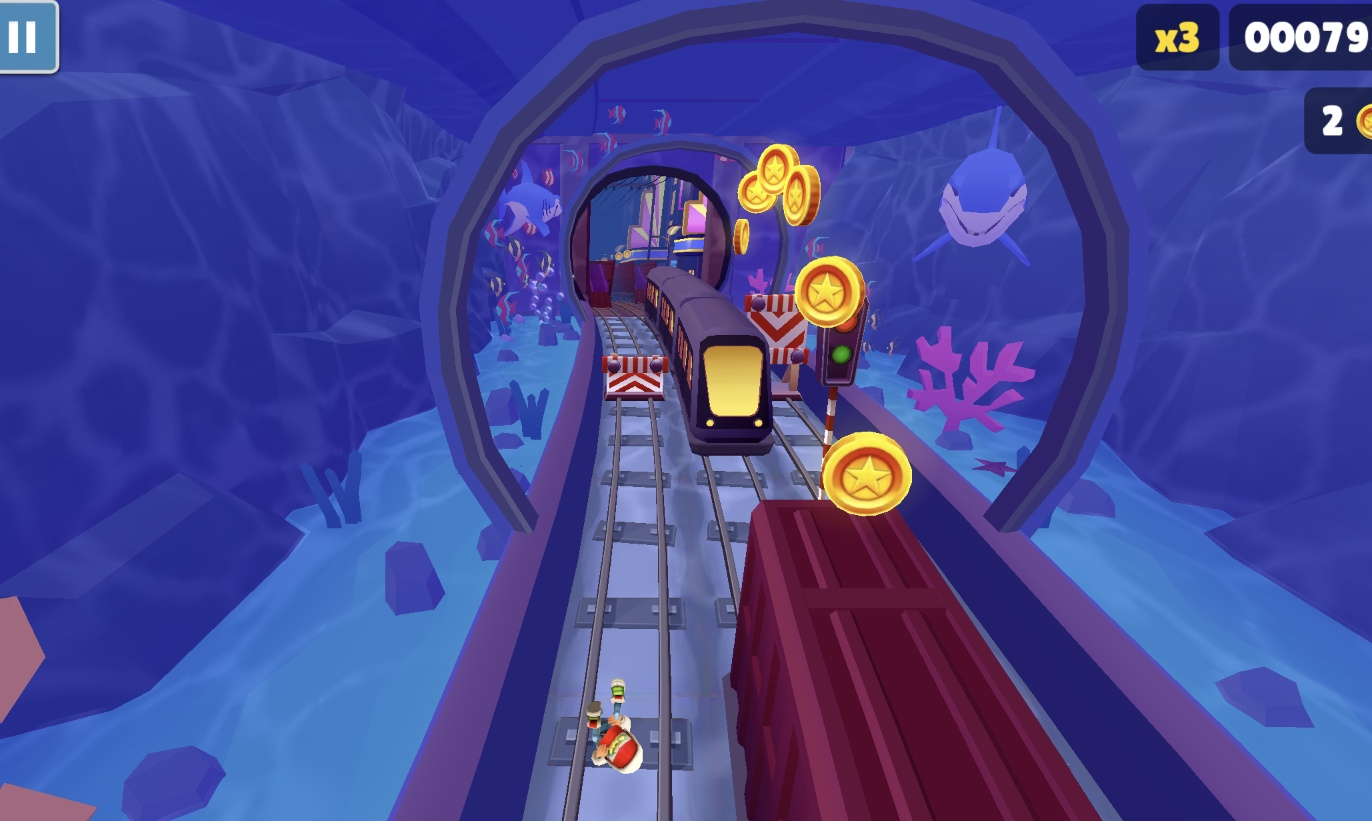ground_barrier: (599, 352, 671, 406)
overhead_barrier: (743, 295, 808, 400)
train: (727, 498, 1108, 821), (632, 263, 778, 456), (611, 256, 649, 312), (583, 256, 617, 310)
